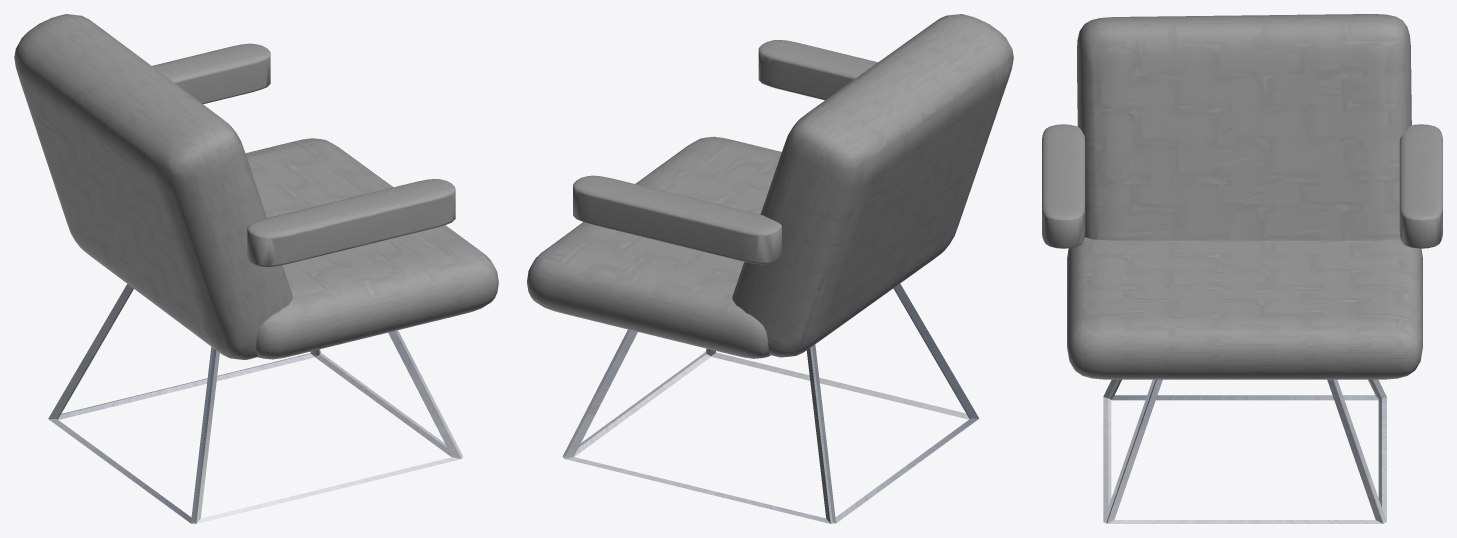
File: fauteuil_parents.glb
The picture shows the model from 3 angles, left to right: view 1: azimuth 30°, elevation 25°; view 2: azimuth 150°, elevation 25°; view 3: azimuth 270°, elevation 25°; orthographic projection. The views are drawn at different scales.
Parts seen in each view (by area): view 1: Object_4, Object_6, Object_10; view 2: Object_4, Object_6, Object_10; view 3: Object_4, Object_6, Object_10.
Boxes of the visible parts, x1,y1,x2,y2 form: Object_4: (14, 14, 498, 359); Object_6: (152, 43, 455, 267); Object_10: (48, 284, 463, 523); Object_4: (527, 14, 1013, 358); Object_6: (573, 40, 877, 264); Object_10: (562, 283, 979, 523); Object_4: (1067, 14, 1422, 379); Object_6: (1042, 124, 1442, 248); Object_10: (1103, 379, 1386, 523).
Bounding box in the file's own units: 0.6471 × 0.7484 × 0.7051.
Materials: 3 (3 with a texture image).
